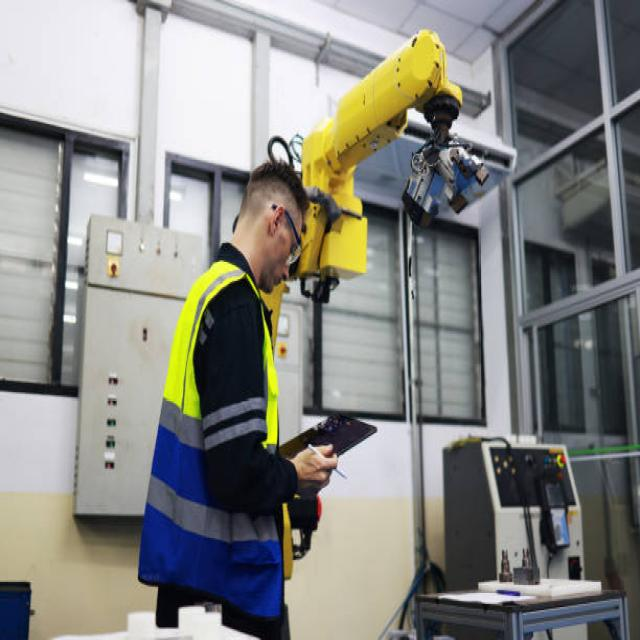Robotic-arm: (291, 18, 468, 288)
